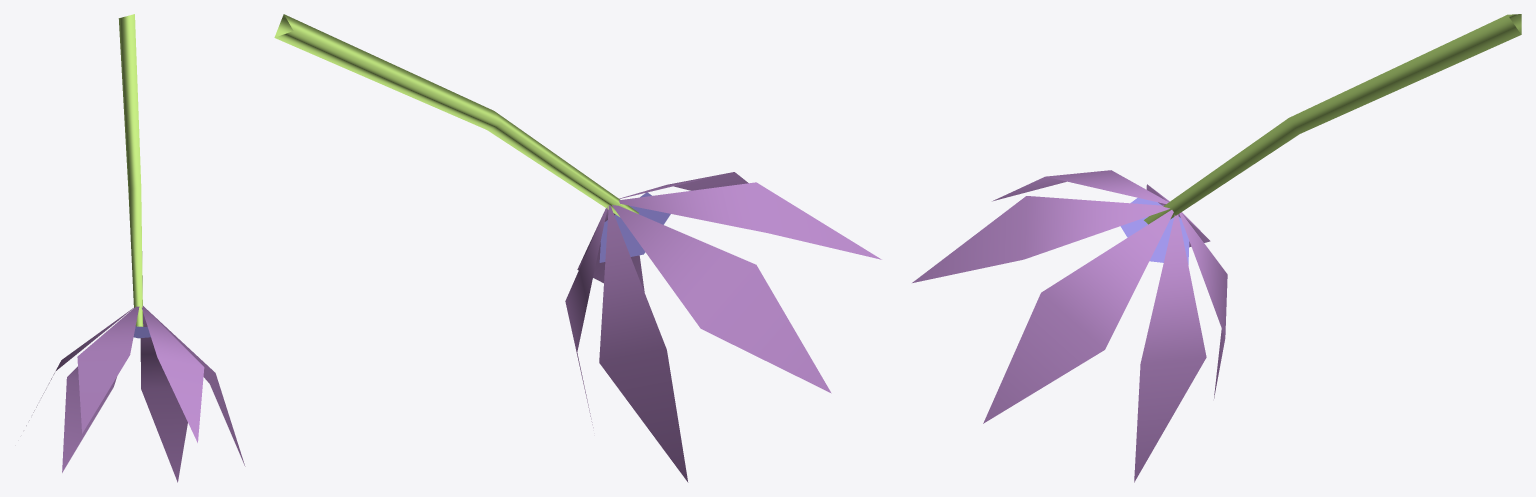
Rendered from one-sided-flower.fbx.
The picture shows the model from 3 angles, left to right: view 1: azimuth 30°, elevation 25°; view 2: azimuth 150°, elevation 25°; view 3: azimuth 270°, elevation 25°; orthographic projection. The views are drawn at different scales.
Visible parts, largest first — view 1: Flower_b_OneS_01; view 2: Flower_b_OneS_01; view 3: Flower_b_OneS_01.
Boxes of the visible parts, x1,y1,x2,y2 form: Flower_b_OneS_01: (26, 14, 245, 482); Flower_b_OneS_01: (274, 14, 881, 482); Flower_b_OneS_01: (912, 14, 1521, 482).
Size of the model in its own units: 37.34 by 25.71 by 35.68.
1 material, 1 textured.
